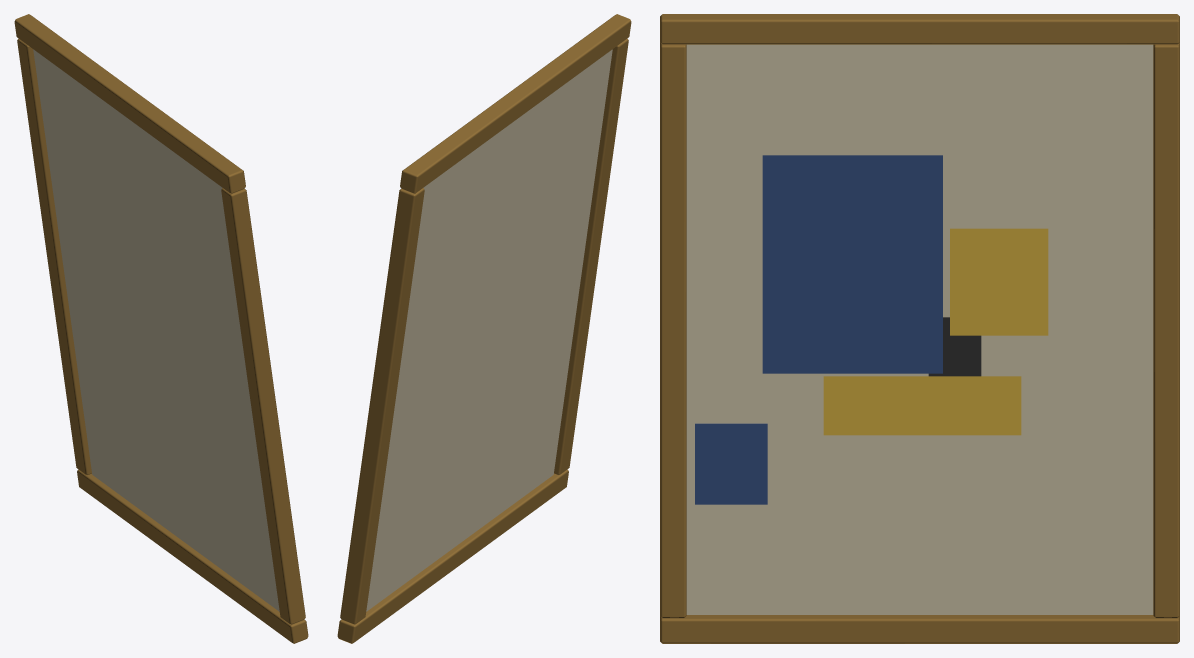
The model's file is painting_lean_b.glb.
3 renders of one model, left to right at view 1: azimuth 30°, elevation 25°; view 2: azimuth 150°, elevation 25°; view 3: azimuth 270°, elevation 25°, orthographic. The views are drawn at different scales.
Visible parts, largest first — view 1: grund, rahmen_r, rahmen_o, rahmen_l, rahmen_u; view 2: grund, rahmen_l, rahmen_o, rahmen_r, rahmen_u; view 3: grund, feld2, rahmen_o, rahmen_l, rahmen_r, rahmen_u, feld3, feld4, feld0, feld1.
Part boxes in pixels (x1,y1,x2,y2): grund: (33,49,279,611); rahmen_r: (221,188,305,624); rahmen_o: (14,14,245,193); rahmen_l: (17,38,91,475); rahmen_u: (77,469,308,643); grund: (366,49,612,611); rahmen_l: (340,188,424,624); rahmen_o: (400,14,631,193); rahmen_r: (554,38,628,475); rahmen_u: (337,469,568,643); grund: (686,44,1153,614); feld2: (762,155,942,373); rahmen_o: (660,14,1179,44); rahmen_l: (1153,42,1179,618); rahmen_r: (660,42,686,618); rahmen_u: (660,615,1179,643); feld3: (823,376,1021,435); feld4: (950,228,1048,335); feld0: (695,423,767,504); feld1: (928,317,981,376).
Size of the model in its own units: 0.1699 by 0.9742 by 0.78.
